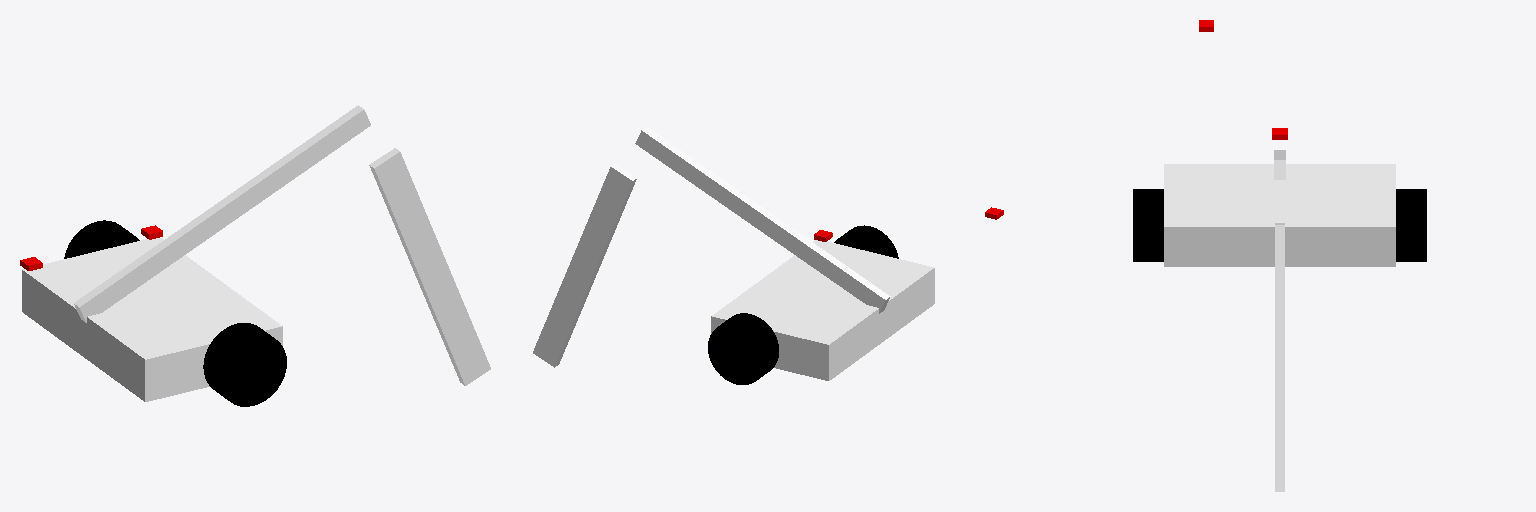
URDF robot description (visual):
<?xml version="1.0" ?>
<robot name="visual">
    <material name="blue">
        <color rgba="0 0 0.8 1" />
    </material>
    <material name="black">
        <color rgba="0 0 0 1" />
    </material>
    <material name="white">
        <color rgba="1 1 1 1" />
    </material>
    <material name="red">
        <color rgba="1 0 0 0" />
    </material>
    <link name="base_link">
        <visual>
            <geometry>
                <box size="0.3429 0.5334 0.1016" />
            </geometry>
            <material name="white" />
            <origin xyz="0 0 0" />
        </visual>
    </link>
    <link name="right_wheel">
        <visual>
            <origin rpy="1.57075 0 0" xyz="0 0 0" />
            <geometry>
                <cylinder length="0.071" radius="0.084074" />
            </geometry>
            <material name="black" />
        </visual>
    </link>
    <joint name="right_wheel_joint" type="continuous">
        <axis rpy="0 0 0" xyz="0 1 0" />
        <parent link="base_link" />
        <child link="right_wheel" />
        <origin rpy="0 0 0" xyz="0.05715 -0.3022 0" />
    </joint>
    <link name="left_wheel">
        <visual>
            <origin rpy="1.57075 0 0" xyz="0 0 0" />
            <geometry>
                <cylinder length="0.071" radius="0.084074" />
            </geometry>
            <material name="black" />
        </visual>
    </link>
    <joint name="left_wheel_joint" type="continuous">
        <axis rpy="0 0 0" xyz="0 1 0" />
        <parent link="base_link" />
        <child link="left_wheel" />
        <origin rpy="0 0 0" xyz="0.05715 0.3022 0" />
    </joint>
    <link name="imu">
        <visual>
            <origin rpy="0 0 0" xyz="0 0 -0.0065" />
            <geometry>
                <box size="0.035 0.035 0.013" />
            </geometry>
            <material name="red" />
        </visual>
    </link>
    <joint name="base_to_imu" type="fixed">
        <parent link="base_link" />
        <child link="imu" />
        <origin rpy="3.1416 0 0" xyz="0 0 0.2" />
    </joint>
    <link name="camera_link">
        <visual>
            <origin rpy="0 0 0" xyz="0 0 -0.0065" />
            <geometry>
                <box size="0.035 0.035 0.013" />
            </geometry>
            <material name="red" />
        </visual>
    </link>
    <joint name="base_to_camera_link" type="fixed">
        <parent link="base_link" />
        <child link="camera_link" />
        <origin rpy="0 0 3.14159" xyz="-0.4 -0.17 0.3" />
    </joint>
    <link name="lever_arm">
        <visual>
            <origin rpy="0 0 0" xyz="0.38735 0 0.023" />
            <geometry>
                <box size="0.7747 0.0254 0.046" />
            </geometry>
            <material name="white" />
        </visual>
    </link>
    <joint name="base_to_lever_arm" type="revolute">
        <parent link="base_link" />
        <child link="lever_arm" />
        <axis xyz="0 1 0" />
        <limit effort="1000.0" lower="5.5676" upper="6.1832" velocity="1" />
        <origin xyz="-0.17145 0 0.034925" />
    </joint>
    <link name="digging_arm">
        <visual>
            <origin rpy="0 0 0" xyz="0.307975 0 0" />
            <geometry>
                <box size="0.61595 0.0222 0.07" />
            </geometry>
            <material name="white" />
        </visual>
    </link>
    <joint name="lever_arm_to_digging_arm" type="revolute">
        <parent link="lever_arm" />
        <child link="digging_arm" />
        <axis xyz="0 1 0" />
        <limit effort="1000.0" lower="1.2" upper="2" velocity="1" />
        <origin xyz="0.7747 0 -0.1016" />
    </joint>
    
<transmission name="trans_right_wheel_joint">
        <type>transmission_interface/SimpleTransmission</type>
        <joint name="right_wheel_joint">
            <hardwareInterface>hardware_interface/EffortJointInterface</hardwareInterface>
        </joint>
        <actuator name="right_wheel_joint_motor">
            <hardwareInterface>hardware_interface/EffortJointInterface</hardwareInterface>
            <mechanicalReduction>1</mechanicalReduction>
        </actuator>
    </transmission>
    <transmission name="trans_left_wheel_joint">
        <type>transmission_interface/SimpleTransmission</type>
        <joint name="left_wheel_joint">
            <hardwareInterface>hardware_interface/EffortJointInterface</hardwareInterface>
        </joint>
        <actuator name="left_wheel_joint_motor">
            <hardwareInterface>hardware_interface/EffortJointInterface</hardwareInterface>
            <mechanicalReduction>1</mechanicalReduction>
        </actuator>
    </transmission>
    <transmission name="trans_base_to_lever_arm">
        <type>transmission_interface/SimpleTransmission</type>
        <joint name="base_to_lever_arm">
            <hardwareInterface>hardware_interface/PositionJointInterface</hardwareInterface>
        </joint>
        <actuator name="base_to_lever_arm_motor">
            <hardwareInterface>hardware_interface/PositionJointInterface</hardwareInterface>
            <mechanicalReduction>1</mechanicalReduction>
        </actuator>
    </transmission>
    <transmission name="trans_lever_arm_to_digging_arm">
        <type>transmission_interface/SimpleTransmission</type>
        <joint name="lever_arm_to_digging_arm">
            <hardwareInterface>hardware_interface/PositionJointInterface</hardwareInterface>
        </joint>
        <actuator name="lever_arm_to_digging_arm_motor">
            <hardwareInterface>hardware_interface/PositionJointInterface</hardwareInterface>
            <mechanicalReduction>1</mechanicalReduction>
        </actuator>
    </transmission>
    <gazebo>
        <plugin name="gazebo_ros_control" filename="libgazebo_ros_control.so">
            <robotNamespace>/</robotNamespace>
        </plugin>
    </gazebo>
</robot>

--- What the picture shows (computed from the rendered views, not written in the file) ---
The picture shows the robot from 3 angles, left to right: view 1: azimuth 30°, elevation 25°; view 2: azimuth 150°, elevation 25°; view 3: azimuth 270°, elevation 25°; orthographic projection.
Model visual with 7 links and 6 joints (2 revolute, 2 continuous, 2 fixed), rooted at base_link, posed joints at zero except 2 at the middle of their limits (base_to_lever_arm = 5.88, lever_arm_to_digging_arm = 1.6).
Visible links, largest first — view 1: base_link, lever_arm, digging_arm, right_wheel, left_wheel; view 2: base_link, lever_arm, digging_arm, left_wheel, right_wheel; view 3: base_link, digging_arm, right_wheel, left_wheel.
Link boxes in pixels (left/top/right/bottom): base_link: left=22, top=237, right=282, bottom=401; lever_arm: left=74, top=105, right=370, bottom=322; digging_arm: left=369, top=148, right=490, bottom=385; right_wheel: left=203, top=323, right=286, bottom=406; left_wheel: left=64, top=220, right=139, bottom=258; base_link: left=711, top=240, right=934, bottom=380; lever_arm: left=635, top=127, right=890, bottom=313; digging_arm: left=533, top=164, right=636, bottom=367; left_wheel: left=708, top=313, right=778, bottom=384; right_wheel: left=834, top=225, right=898, bottom=258; base_link: left=1164, top=164, right=1395, bottom=266; digging_arm: left=1275, top=223, right=1284, bottom=491; right_wheel: left=1133, top=189, right=1163, bottom=261; left_wheel: left=1396, top=189, right=1426, bottom=261.
Size in the robot's own frame: 1.26 by 0.6754 by 0.7208 metres.
Geometry: primitives only (box / cylinder / sphere), no mesh files.